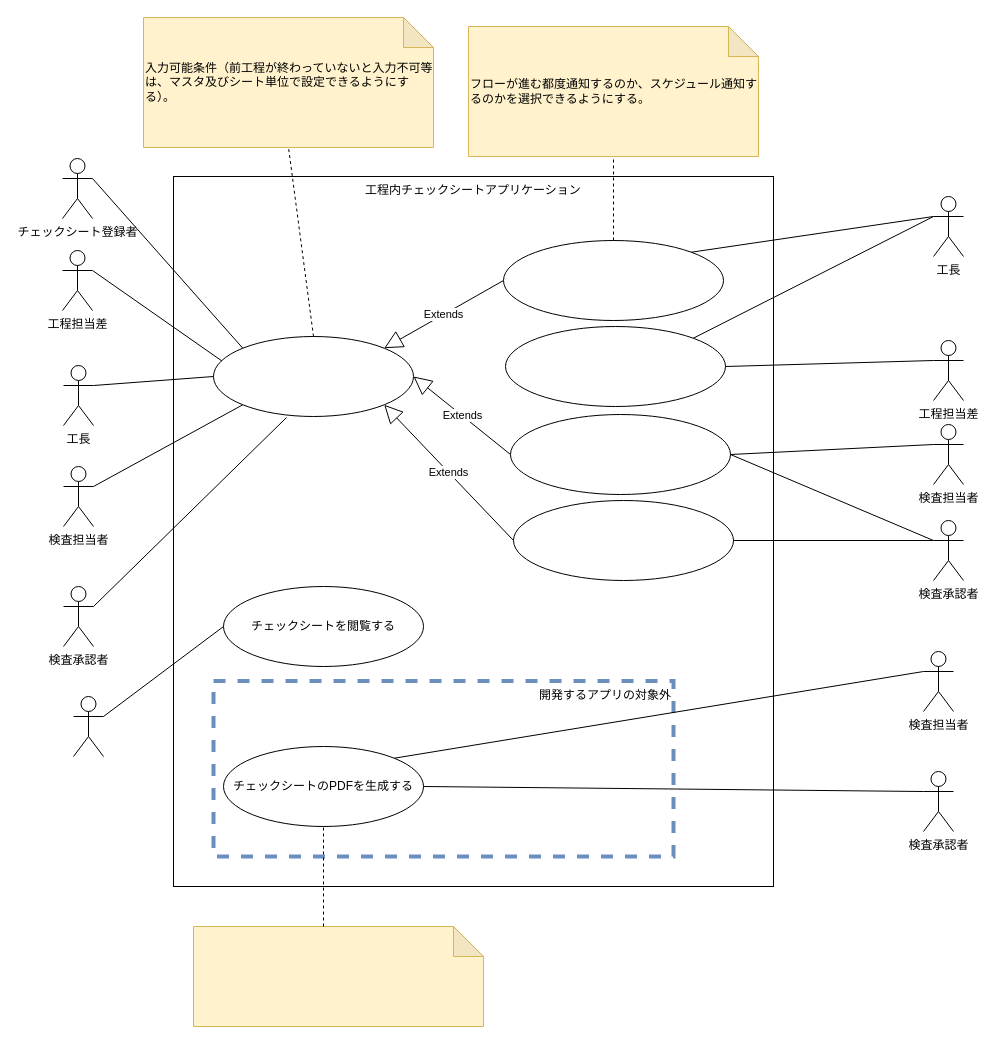
Image size: 995x1044. Some labels were removed from this diagram. Here are the shapes that lost their labels. From the top down, the centre of each, then its label:
the point at 613,280: 工程確認済をセットする
the point at 313,376: チェックシートを入力する
the point at 615,366: 各工程の確認済を入力する
the point at 620,454: 検査担当確認済をセットする
the point at 623,540: 検査承認済をセットする
the point at 88,726: 社員
the point at 338,976: kintoneで作成する 削除・更新の際のPDFの挙動は？
